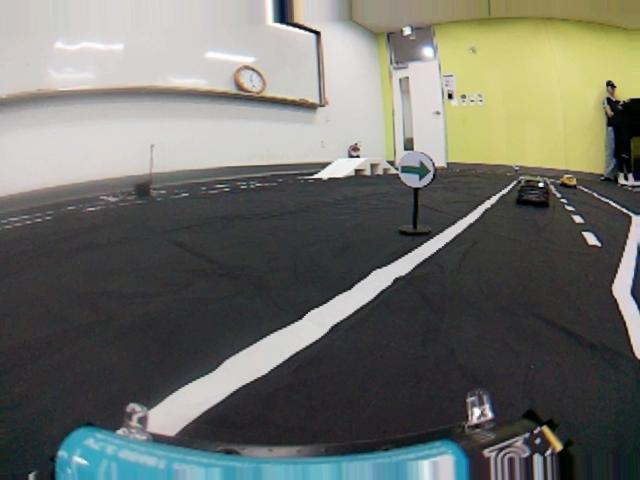car: (516, 177, 551, 209), (558, 171, 581, 187)
sign_right: (397, 152, 435, 190)
straight: (0, 184, 640, 480)
